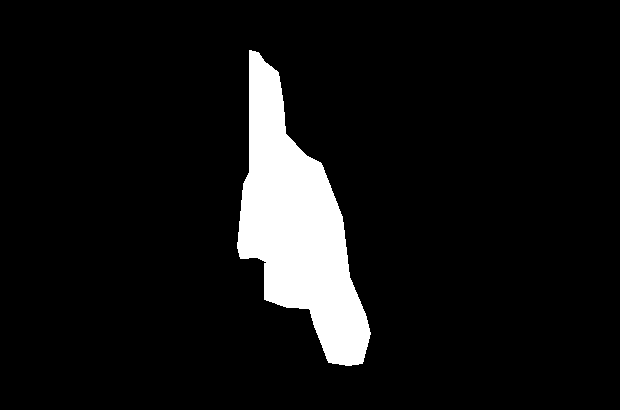type2: (231, 46, 375, 369)
